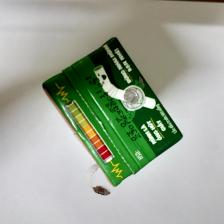Juice Box: (47, 40, 177, 182)
